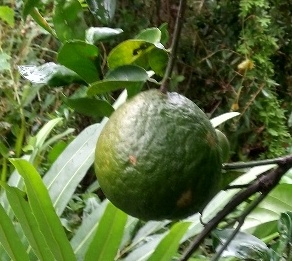Cam: (89, 86, 225, 224)
